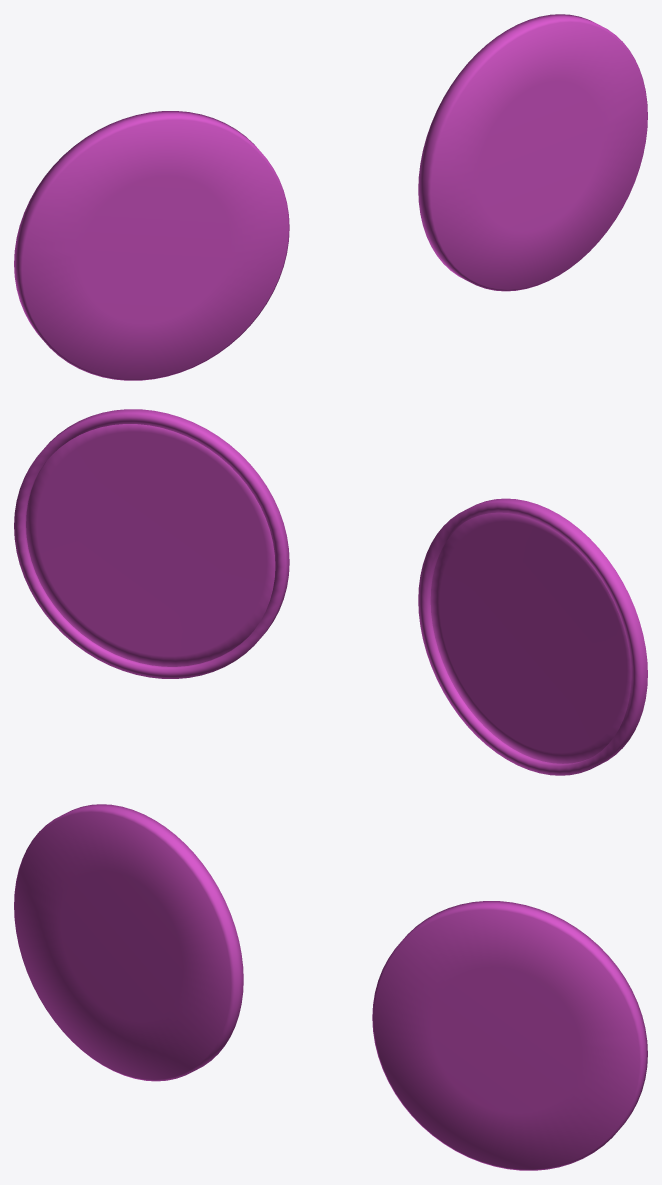
Rendered from Glasses_Glass_01.glb.
3 views of the same model, one above another, from view 1: azimuth 30°, elevation 25°; view 2: azimuth 150°, elevation 25°; view 3: azimuth 330°, elevation 25° (orthographic).
Visible parts, largest first — view 1: Glass; view 2: Glass; view 3: Glass.
Part boxes in pixels (bbox=[...]): Glass: bbox=[14, 14, 647, 380]; Glass: bbox=[14, 409, 647, 775]; Glass: bbox=[14, 804, 647, 1170].
Size of the model in its own units: 0.0939 by 0.0373 by 0.00851.
